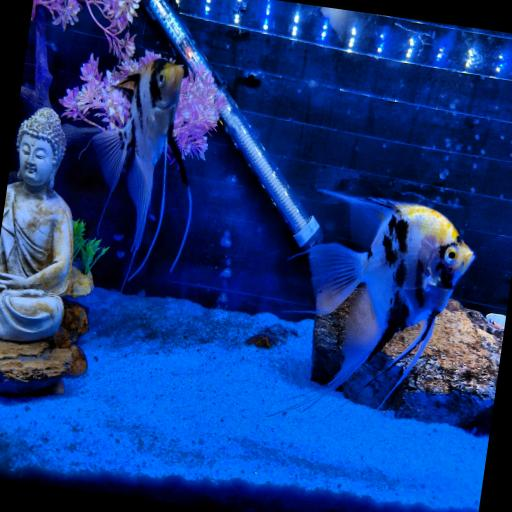Fish: (307, 190, 473, 392), (92, 59, 187, 253)
